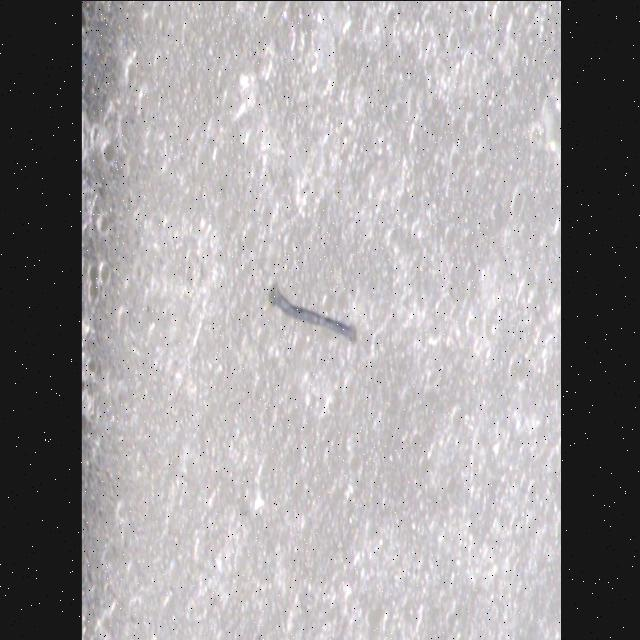Fibre: (268, 280, 356, 340)
